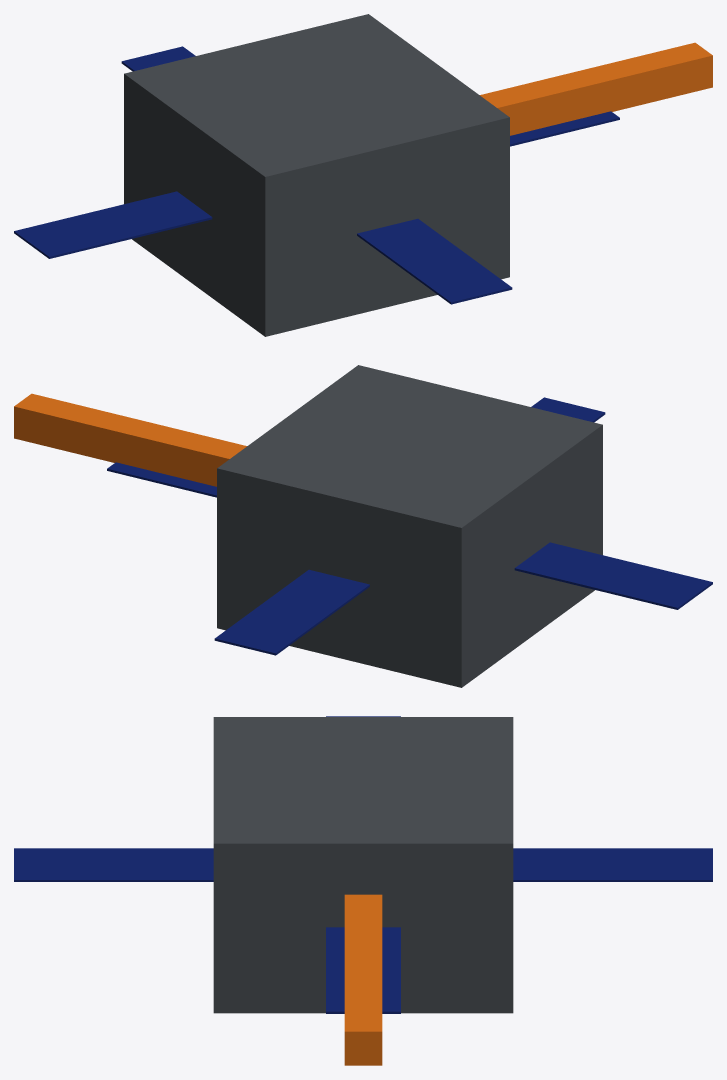
File: Apex_Counterweight_Hub.obj
3 renders of one model, top to bottom at view 1: azimuth 30°, elevation 25°; view 2: azimuth 150°, elevation 25°; view 3: azimuth 270°, elevation 25°, orthographic. The views are drawn at different scales.
Visible parts, largest first — view 1: Ballast_Titanium, Photovoltaic_Blue, Accelerator_Orange; view 2: Ballast_Titanium, Photovoltaic_Blue, Accelerator_Orange; view 3: Ballast_Titanium, Photovoltaic_Blue, Accelerator_Orange.
Boxes of the visible parts, x1,y1,x2,y2 form: Ballast_Titanium: (124, 14, 509, 336); Photovoltaic_Blue: (14, 46, 619, 304); Accelerator_Orange: (480, 42, 712, 135); Ballast_Titanium: (217, 365, 602, 687); Photovoltaic_Blue: (107, 397, 712, 655); Accelerator_Orange: (14, 393, 246, 486); Ballast_Titanium: (213, 717, 513, 1013); Photovoltaic_Blue: (14, 716, 712, 1013); Accelerator_Orange: (344, 894, 382, 1065).
Size of the model in its own units: 66 by 15 by 56.
